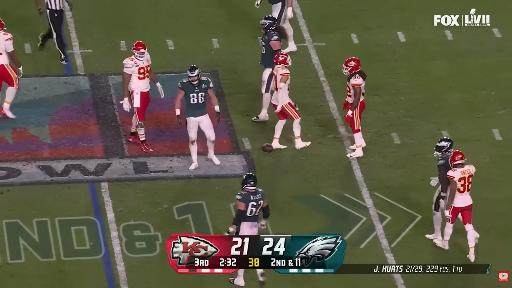Helmet: (434, 137, 453, 156), (343, 57, 361, 75), (260, 15, 278, 32), (132, 41, 147, 60), (241, 173, 257, 189), (450, 151, 465, 167), (274, 52, 291, 66), (188, 66, 200, 84), (0, 18, 4, 31)
Jersey: (179, 78, 213, 117), (447, 165, 475, 207), (123, 54, 151, 91), (236, 188, 265, 222), (261, 31, 281, 68), (272, 66, 291, 104), (347, 71, 366, 103), (438, 154, 451, 196), (0, 32, 13, 64), (268, 0, 285, 5)
Player: (434, 151, 479, 262), (175, 66, 220, 170), (123, 41, 163, 153), (272, 52, 310, 149), (252, 16, 281, 121), (426, 137, 453, 240), (226, 173, 270, 235), (343, 58, 366, 158), (0, 19, 22, 118), (268, 0, 297, 52)
